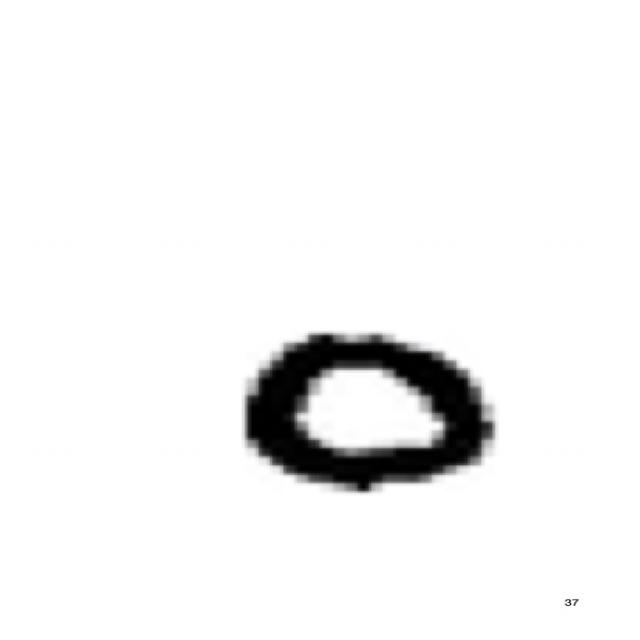5 -five-: (231, 317, 507, 498)
